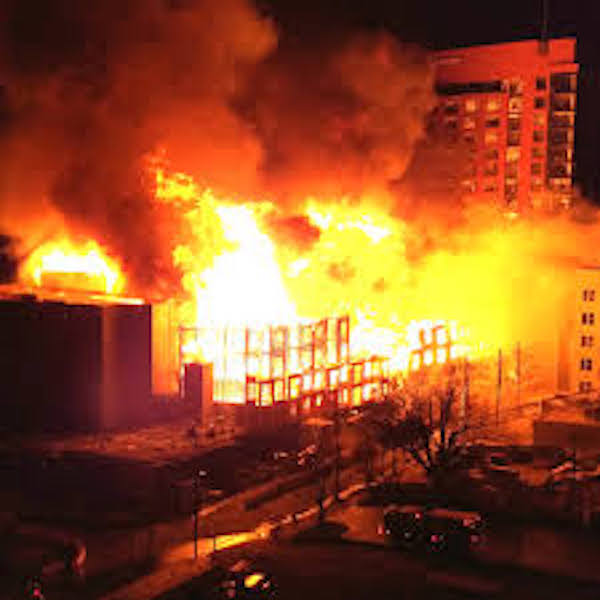fire: (157, 147, 513, 328), (25, 219, 154, 294), (352, 330, 456, 366), (182, 332, 271, 374), (287, 330, 347, 392), (216, 377, 284, 409)
